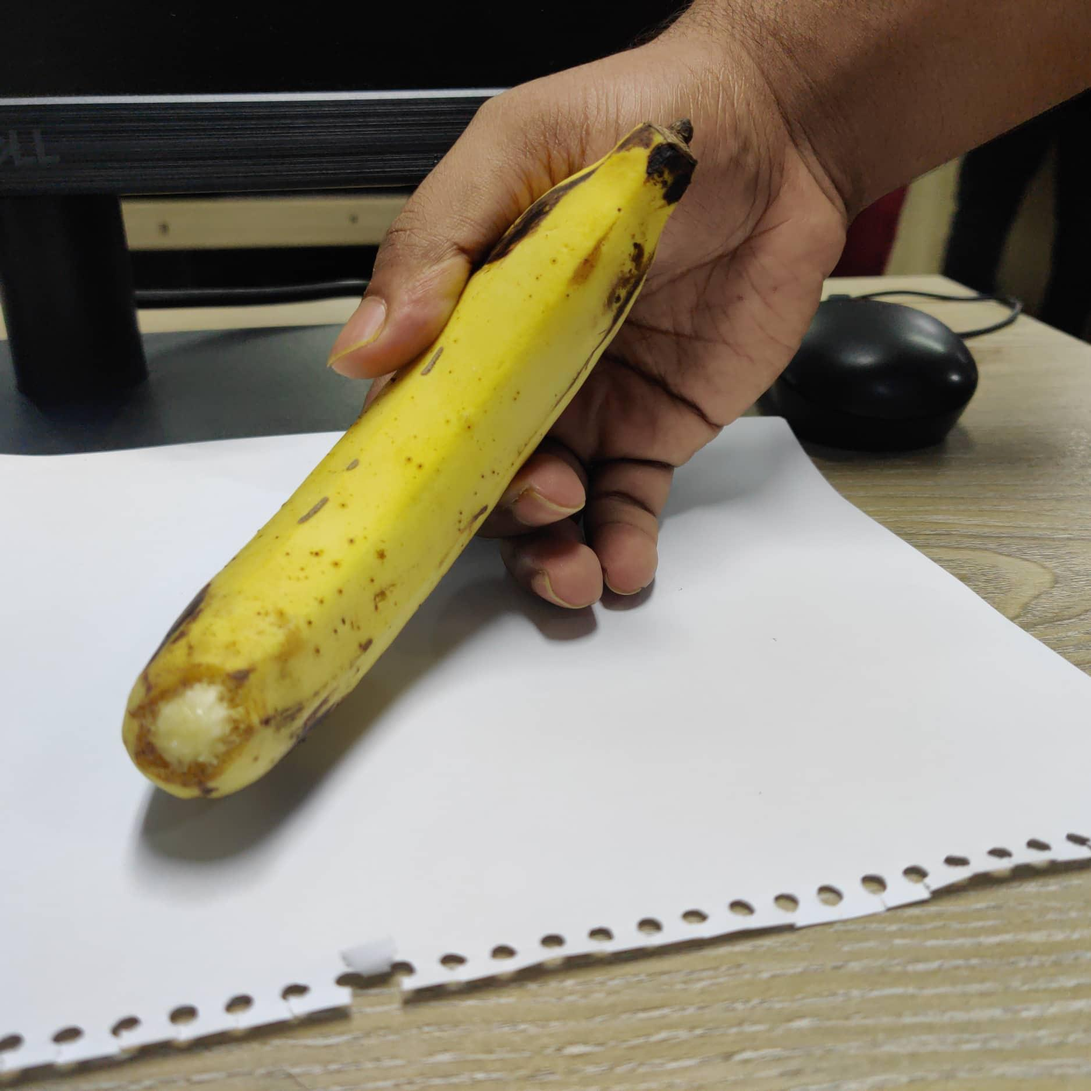Banana Ripe: (115, 128, 683, 817)
